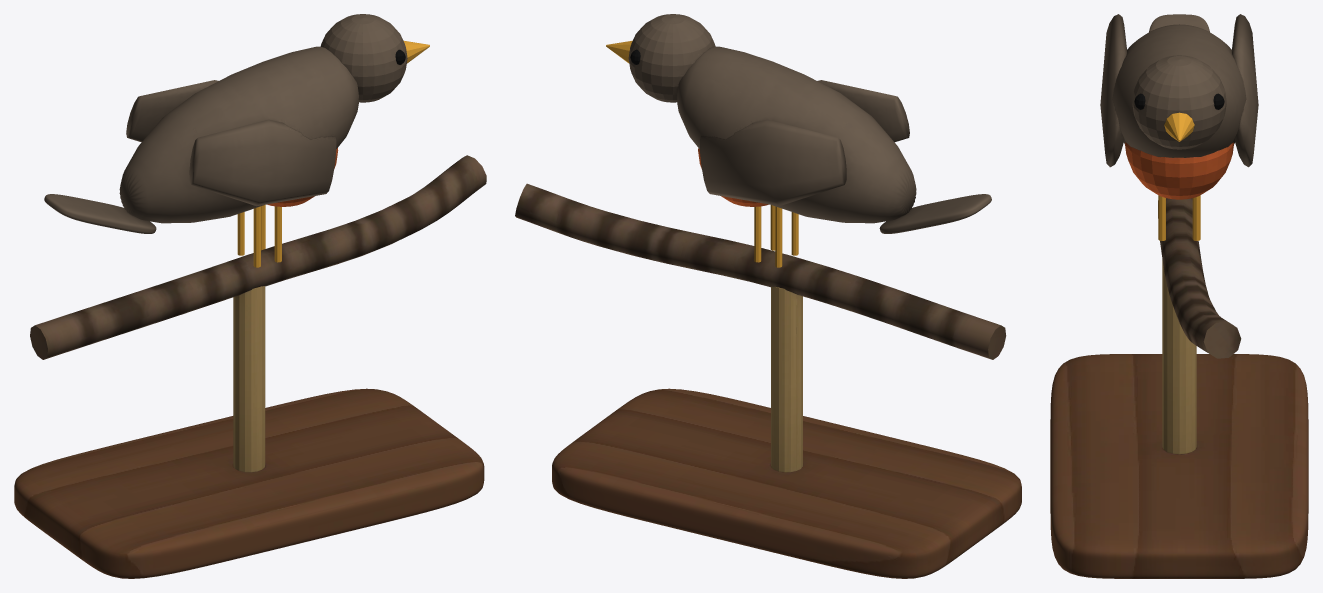
File: robin-branch.glb
3 views of the same model, side by side, from view 1: azimuth 30°, elevation 25°; view 2: azimuth 150°, elevation 25°; view 3: azimuth 270°, elevation 25° (orthographic). The views are drawn at different scales.
Parts seen in each view (by area): view 1: wood_x, feathers_primary, branch_bark, brass, beak; view 2: wood_x, feathers_primary, branch_bark, brass, beak; view 3: wood_x, feathers_primary, branch_bark, brass, feathers_belly, beak.
Part boxes in pixels (x1,y1,x2,y2): wood_x: (14,388,484,578); feathers_primary: (44,14,407,233); branch_bark: (30,155,486,359); brass: (233,286,265,472); beak: (237,41,429,267); wood_x: (552,388,1021,578); feathers_primary: (628,14,991,233); branch_bark: (515,183,1006,359); brass: (771,286,802,472); beak: (606,40,798,267); wood_x: (1050,354,1308,578); feathers_primary: (1100,14,1258,167); branch_bark: (1158,198,1241,358); brass: (1162,259,1196,454); feathers_belly: (1125,142,1233,199); beak: (1158,112,1200,240).
Bounding box in the file's own units: 0.2637 × 0.249 × 0.12.
Materials: 7 (5 with a texture image).
